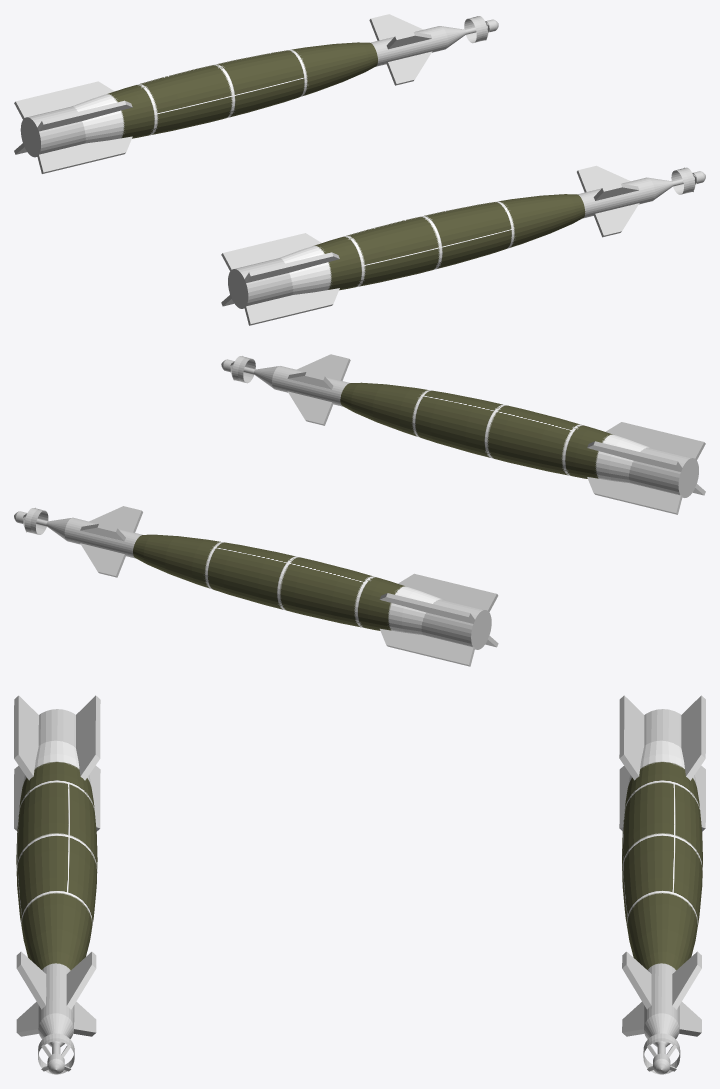
File: f15egbu1035.glb
3 views of the same model, one above another, from view 1: azimuth 30°, elevation 25°; view 2: azimuth 150°, elevation 25°; view 3: azimuth 270°, elevation 25° (orthographic). The views are drawn at different scales.
Visible parts, largest first — view 1: 球.005, 球.004; view 2: 球.005, 球.004; view 3: 球.004, 球.005.
Boxes of the visible parts, x1=… form: 球.005: x1=14, y1=14, x2=498, y2=173; 球.004: x1=221, y1=165, x2=705, y2=325; 球.005: x1=14, y1=506, x2=498, y2=666; 球.004: x1=221, y1=354, x2=705, y2=514; 球.004: x1=14, y1=695, x2=100, y2=1074; 球.005: x1=619, y1=695, x2=705, y2=1074.
Size of the model in its own units: 4.24 by 0.4634 by 3.71.
Materials: 1 (1 with a texture image).
